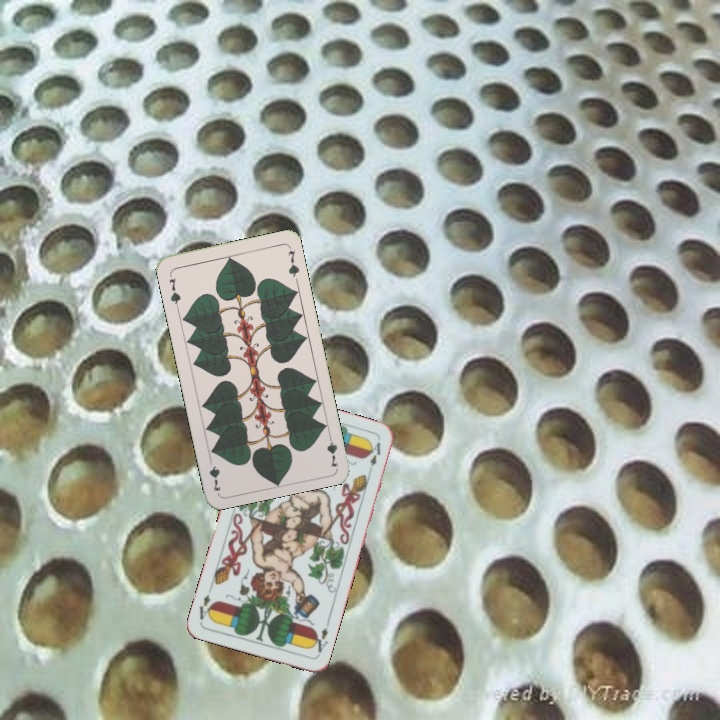EA: (308, 618, 332, 658)
G7: (165, 269, 183, 310), (323, 428, 340, 469)
